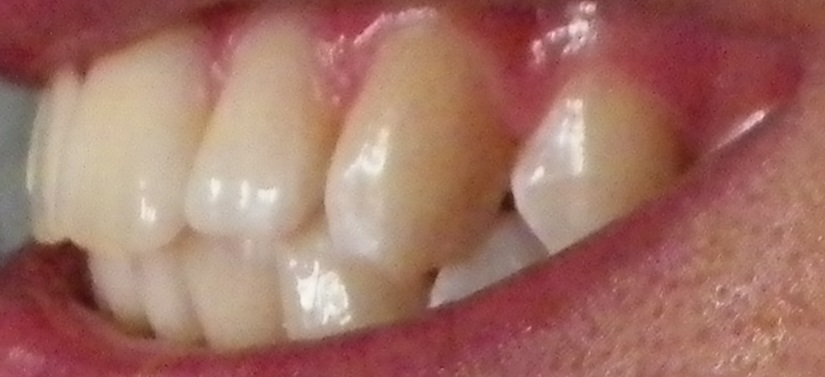boca: (31, 13, 739, 340)
